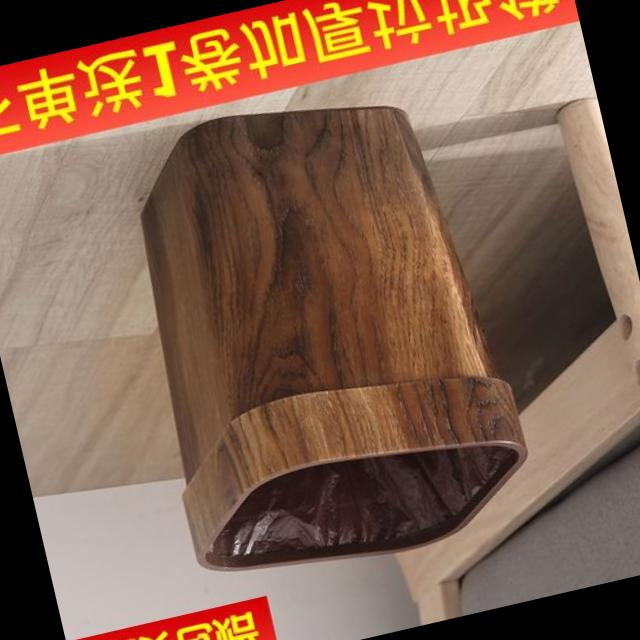dustbin: (98, 68, 548, 600)
